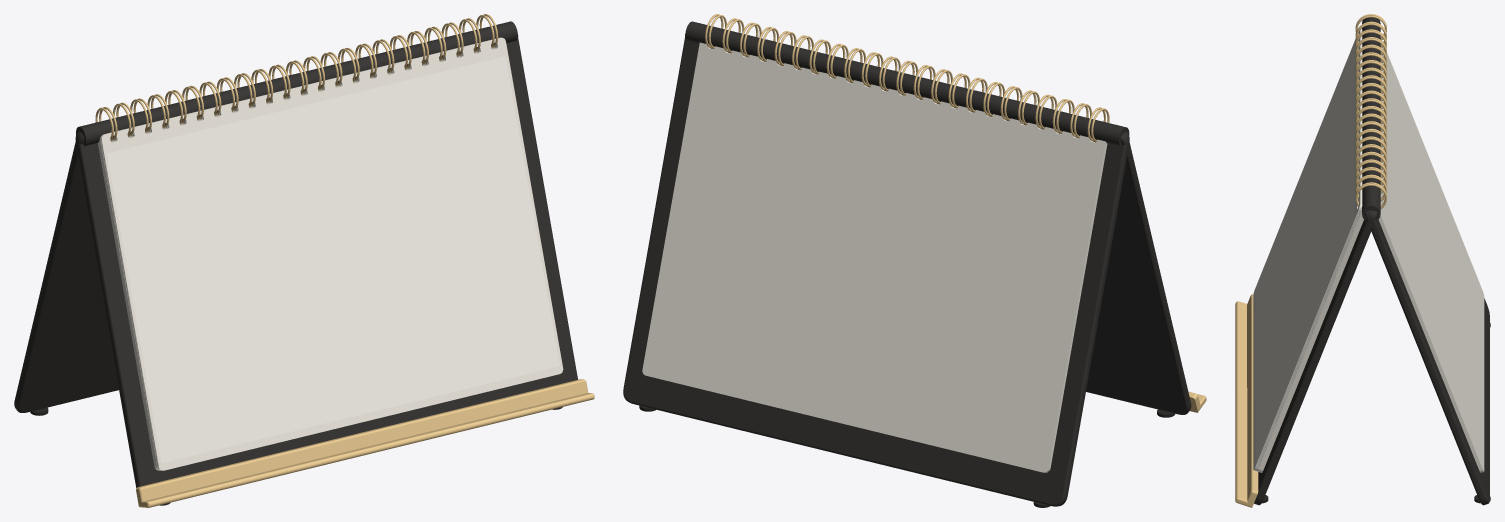
File: calendar.glb
The picture shows the model from 3 angles, left to right: view 1: azimuth 30°, elevation 25°; view 2: azimuth 150°, elevation 25°; view 3: azimuth 270°, elevation 25°; orthographic projection. The views are drawn at different scales.
Visible parts, largest first — view 1: face0, stand, sheet0, rail, binding, stack; view 2: stand, binding; view 3: stand, face0, rail, binding, sheet0, stack, sheet2, sheet1, sheet3.
Part boxes in pixels (bbox=[...]): face0: bbox=[107, 56, 559, 463]; stand: bbox=[14, 21, 577, 505]; sheet0: bbox=[101, 37, 563, 470]; rail: bbox=[136, 379, 594, 507]; binding: bbox=[95, 14, 498, 140]; stack: bbox=[97, 46, 496, 470]; stand: bbox=[623, 21, 1191, 507]; binding: bbox=[705, 14, 1109, 142]; stand: bbox=[1254, 17, 1490, 505]; face0: bbox=[1255, 44, 1353, 463]; rail: bbox=[1235, 294, 1258, 507]; binding: bbox=[1355, 14, 1386, 209]; sheet0: bbox=[1253, 30, 1360, 470]; stack: bbox=[1257, 211, 1363, 472]; sheet2: bbox=[1255, 29, 1362, 470]; sheet1: bbox=[1254, 29, 1361, 470]; sheet3: bbox=[1256, 208, 1361, 471].
Bounding box in the file's own units: 0.228 × 0.169 × 0.1244.
